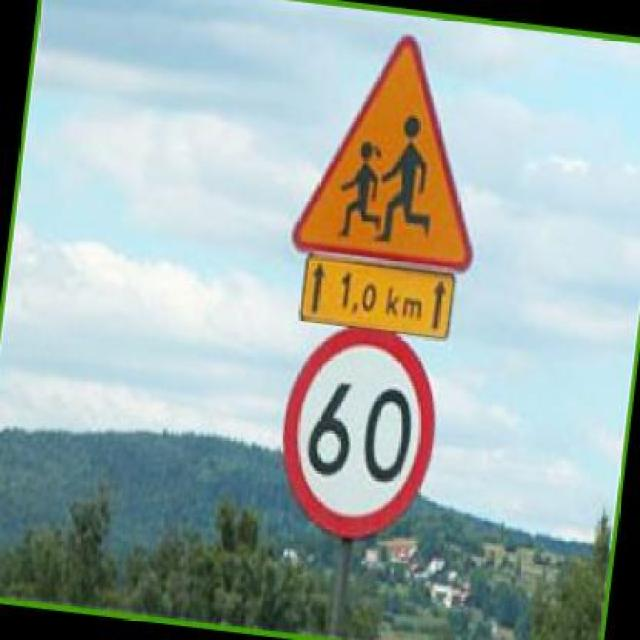Limite-60: (279, 325, 440, 543)
